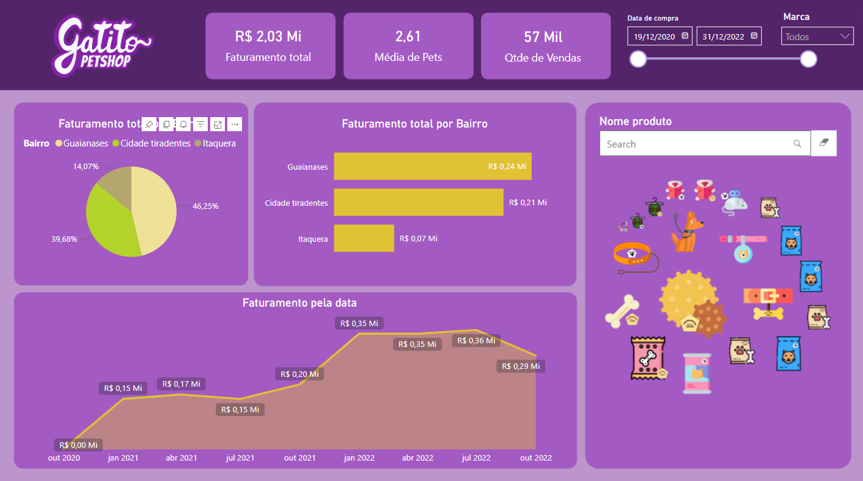

This screenshot's page, from the dashboard's own definition file:
{"tool":"powerbi","page":{"name":"Página 1","canvas":[1280,720],"ordinal":0},"visuals":[{"type":"cardVisual","fields":{"Data":["Avg(Clientes.Pets)"]},"box":[539.6,28.7,135.6,88],"z":0},{"type":"cardVisual","fields":{"Data":["Sum(Vendas.Quantidade)"]},"box":[709.2,29.6,193,88],"z":1000},{"type":"cardVisual","fields":{"Data":["Vendas.Faturamento total"]},"box":[310.6,28.7,180.4,88],"z":2000},{"type":"pieChart","fields":{"Category":["Clientes.Bairro"],"Y":["Vendas.Faturamento total"]},"box":[34.9,176.6,328,232.9],"z":3000},{"type":"clusteredBarChart","fields":{"Category":["Clientes.Bairro"],"Y":["Vendas.Faturamento total"]},"box":[383.7,176.8,466,228],"z":4000},{"type":"areaChart","title":"Faturamento pela data","fields":{"Category":["Vendas.Data de compra.Variation.Hierarquia de datas.Ano","Vendas.Data de compra.Variation.Hierarquia de datas.Trimestre","Vendas.Data de compra.Variation.Hierarquia de datas.Mês","Vendas.Data de compra.Variation.Hierarquia de datas.Dia"],"Y":["Vendas.Faturamento total"]},"box":[70.1,440.4,754,256.9],"z":5000},{"type":"ImageGrid_FC5183B9_926C_45E0_B5F7_0CE9EAF1DA9B","fields":{"ImageURL":["Produtos.Url img"]},"box":[870.5,164,387.2,526.9],"z":6000},{"type":"textFilter25A4896A83E0487089E2B90C9AE57C8A","fields":{"field":["Produtos.Nome produto"]},"box":[884.1,172.7,360,75.7],"z":7000},{"type":"slicer","fields":{"Values":["Produtos.Marca"]},"box":[1147.3,16.2,126.6,83.5],"z":8000},{"type":"slicer","fields":{"Values":["Vendas.Data de compra"]},"box":[917.5,19.8,300.7,93.4],"z":9000},{"type":"shape","box":[16.9,40,46.2,90],"z":11000}]}

Visuals, with their boxes in screenshot pixels (x1, y1, x2, y2), scaled from the page's 1280x720 canvas onto the 863x481 screenshot:
cardVisual - Avg(Clientes.Pets): 364,19,455,78
cardVisual - Sum(Vendas.Quantidade): 478,20,608,79
cardVisual - Vendas.Faturamento total: 209,19,331,78
pieChart - Clientes.Bairro x Vendas.Faturamento total: 24,118,245,274
clusteredBarChart - Clientes.Bairro x Vendas.Faturamento total: 259,118,573,270
"Faturamento pela data" areaChart: 47,294,556,466
ImageGrid_FC5183B9_926C_45E0_B5F7_0CE9EAF1DA9B - Produtos.Url img: 587,110,848,462
textFilter25A4896A83E0487089E2B90C9AE57C8A - Produtos.Nome produto: 596,115,839,166
slicer - Produtos.Marca: 774,11,859,67
slicer - Vendas.Data de compra: 619,13,821,76
shape: 11,27,43,87
